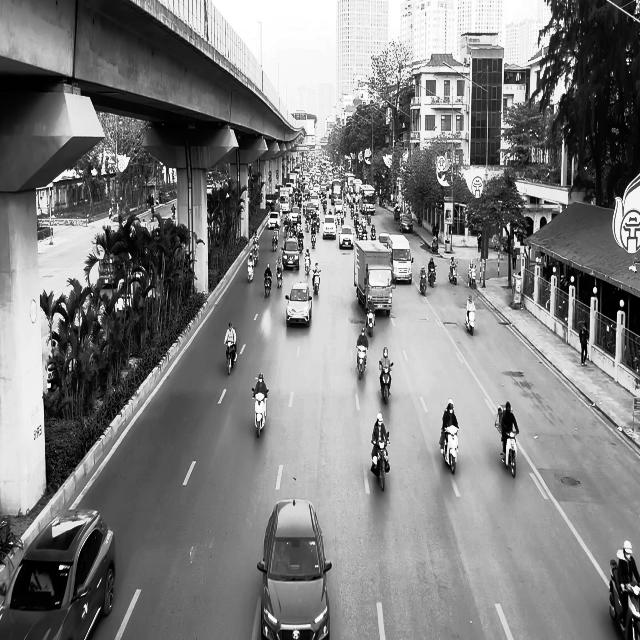car: (0, 508, 117, 639), (257, 498, 332, 640), (285, 282, 313, 327), (281, 238, 300, 270)
motorbike: (371, 432, 390, 491), (440, 425, 460, 473), (500, 429, 519, 477), (252, 388, 269, 438), (379, 361, 394, 403), (225, 342, 237, 374), (357, 345, 368, 379), (465, 306, 476, 335), (366, 308, 376, 336), (468, 266, 477, 289), (449, 261, 458, 284), (247, 257, 255, 282), (264, 273, 272, 298), (312, 272, 320, 295), (276, 265, 284, 288), (428, 266, 436, 286), (420, 272, 427, 294)
truck: (354, 239, 393, 316)
